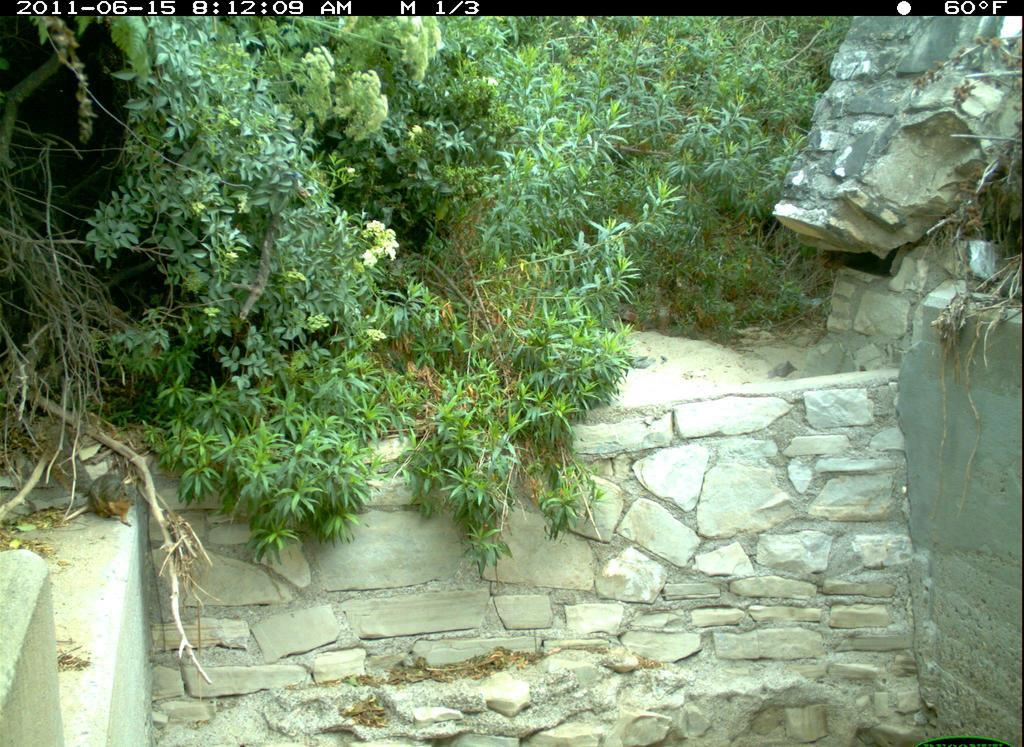squirrel: (61, 450, 137, 529)
